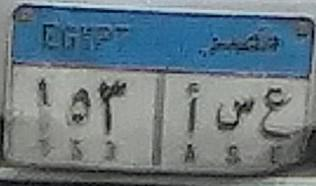1: (28, 81, 50, 137)
3: (101, 76, 127, 137)
5: (69, 77, 95, 136)
أ: (184, 78, 201, 140)
س: (209, 90, 257, 142)
ع: (252, 78, 302, 151)
